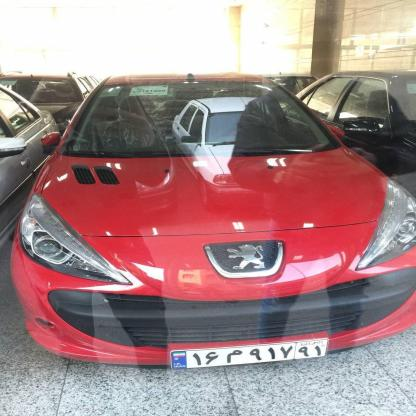Car: (0, 64, 416, 370), (172, 97, 304, 226), (310, 54, 416, 174), (0, 83, 70, 206)
